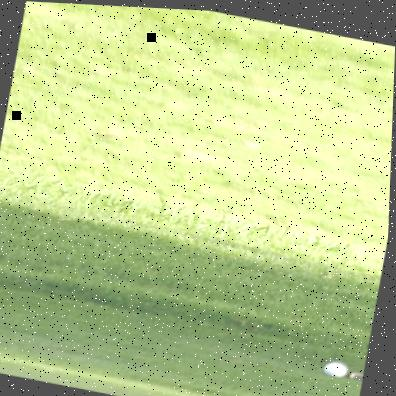ClubHead: (322, 350, 357, 381)
GolfBall: (351, 351, 368, 379)
